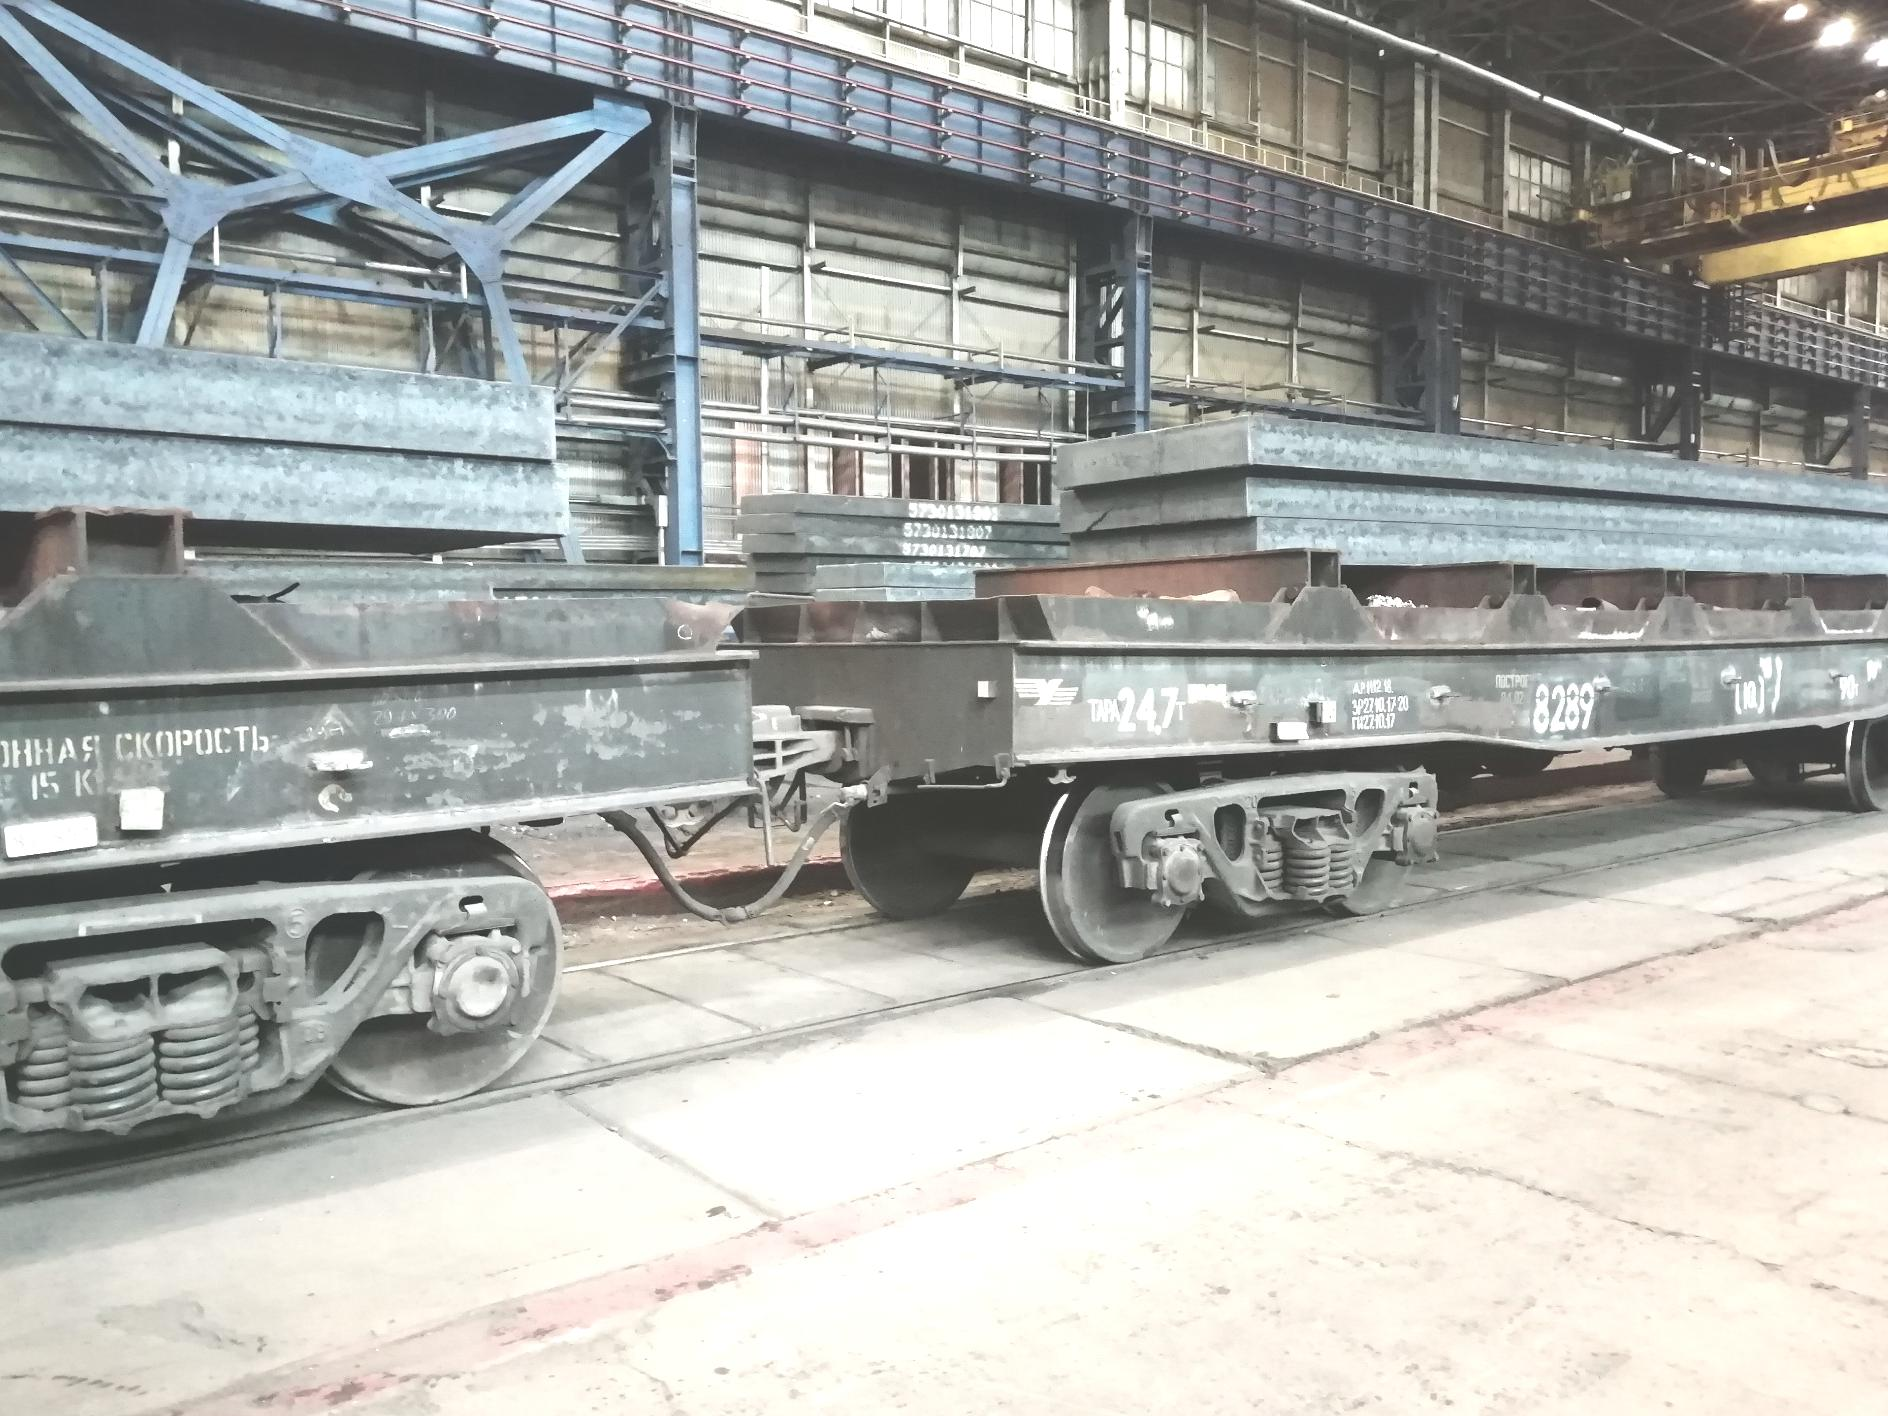data matrix: (65, 817, 100, 851), (1295, 723, 1311, 742)
